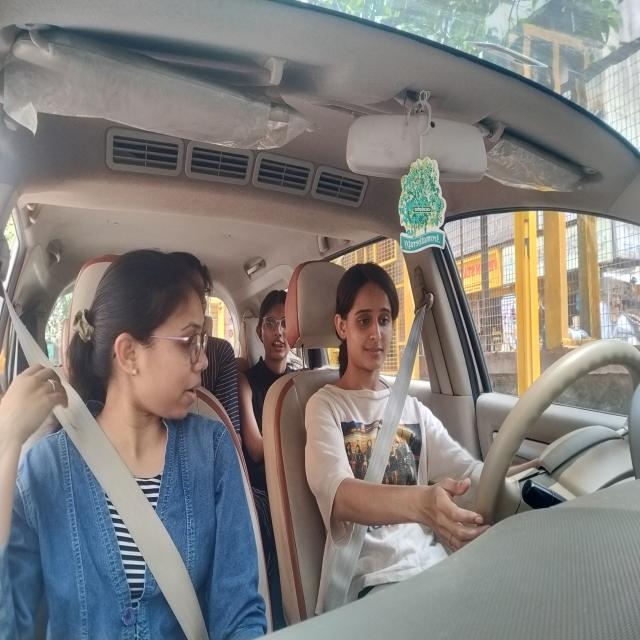person: (80, 234, 209, 458), (335, 257, 405, 402), (251, 270, 297, 401)
